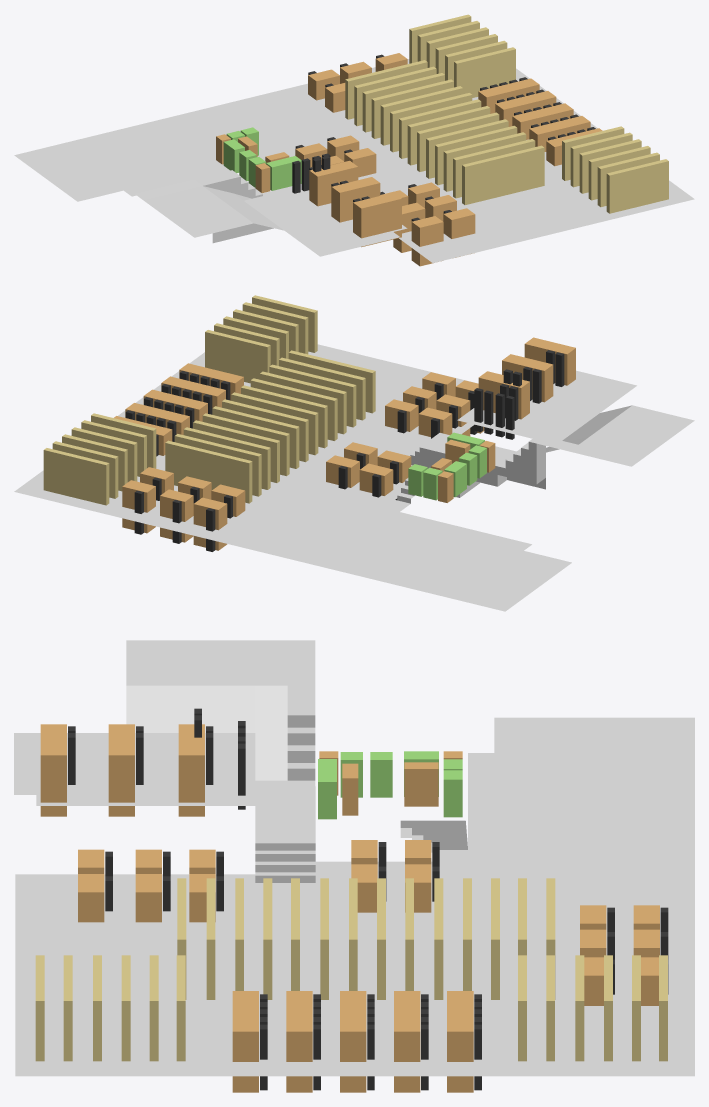
File: KresgeBottom.glb
The picture shows the model from 3 angles, top to bottom: view 1: azimuth 30°, elevation 25°; view 2: azimuth 150°, elevation 25°; view 3: azimuth 270°, elevation 25°; orthographic projection. The views are drawn at different scales.
Visible parts, largest first — view 1: Cube.035, Cube.088, Cube.108, Cube.102, Cube.028, Cube.020, Cube.023, Cube.097, Cube.090, Cube.094, Cube.098, Cube.101 (+38 smaller); view 2: Cube.035, Cube.101, Cube.107, Cube.113, Cube.088, Cube.092, Cube.096, Cube.094, Cube.090, Cube.097, Cube.089, Cube.093 (+40 smaller); view 3: Cube.035, Cube.020, Cube.028, Cube.048, Cube.054, Cube.060, Cube.066, Cube.072, Cube.023, Cube.079, Cube.002, Cube.006 (+37 smaller).
Boxes of the visible parts, <box> form: Cube.035: <box>14,59,694,262</box>; Cube.088: <box>462,145,544,204</box>; Cube.108: <box>606,159,668,213</box>; Cube.102: <box>454,47,515,97</box>; Cube.028: <box>353,192,401,247</box>; Cube.020: <box>331,177,380,222</box>; Cube.023: <box>309,160,358,206</box>; Cube.097: <box>380,86,462,145</box>; Cube.090: <box>443,132,526,191</box>; Cube.094: <box>407,106,490,165</box>; Cube.098: <box>371,79,453,138</box>; Cube.101: <box>345,60,427,119</box>; Cube.035: <box>14,344,694,611</box>; Cube.101: <box>165,440,252,503</box>; Cube.107: <box>43,448,109,505</box>; Cube.113: <box>205,330,270,383</box>; Cube.088: <box>288,350,375,413</box>; Cube.092: <box>250,378,337,440</box>; Cube.096: <box>212,406,299,468</box>; Cube.094: <box>231,392,318,455</box>; Cube.090: <box>269,364,356,427</box>; Cube.097: <box>202,413,289,476</box>; Cube.089: <box>279,357,365,420</box>; Cube.093: <box>241,385,327,448</box>; Cube.035: <box>14,640,694,1076</box>; Cube.020: <box>108,724,134,816</box>; Cube.028: <box>40,724,66,816</box>; Cube.048: <box>232,991,258,1092</box>; Cube.054: <box>286,991,312,1092</box>; Cube.060: <box>340,991,366,1092</box>; Cube.066: <box>394,991,420,1092</box>; Cube.072: <box>447,991,473,1092</box>; Cube.023: <box>178,724,204,816</box>; Cube.079: <box>404,762,438,806</box>; Cube.002: <box>78,874,104,922</box>; Cube.006: <box>135,874,161,922</box>.
Bounding box in the file's own units: 25.2 × 4.93 × 20.22.
